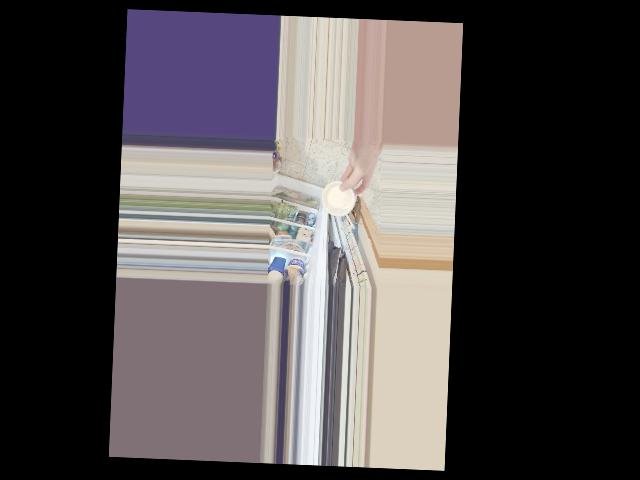cotage: (323, 179, 359, 215)
